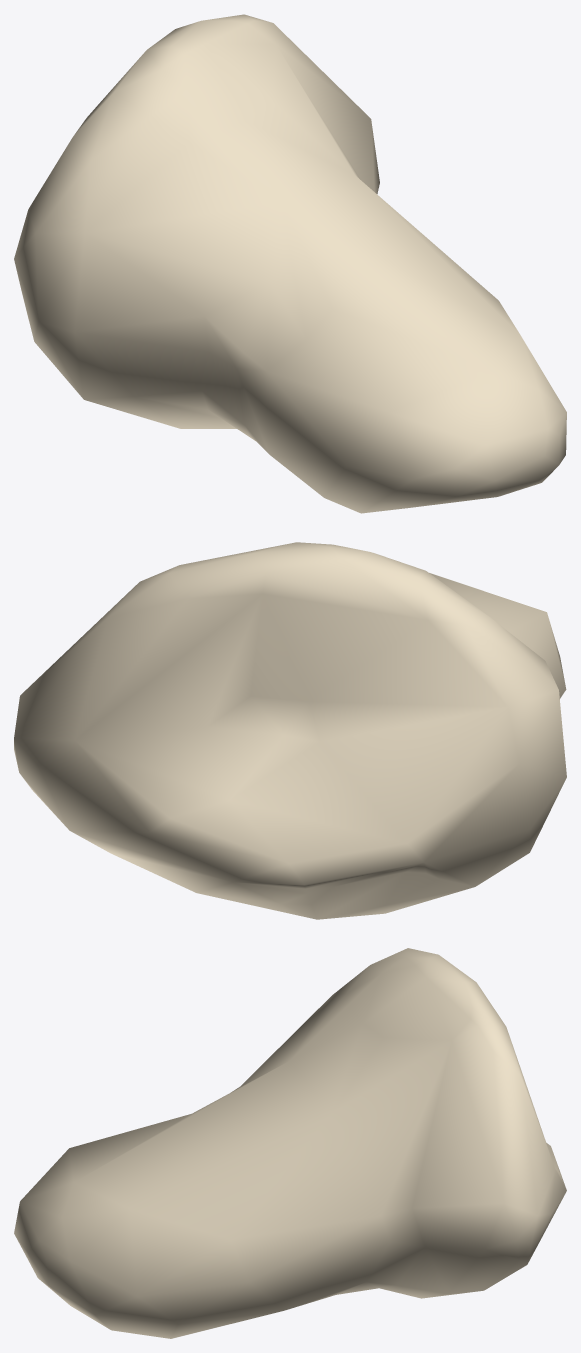
Rendered from distal-phalanx-of-fourth-finger-of-foot-l.glb.
The picture shows the model from 3 angles, top to bottom: view 1: azimuth 30°, elevation 25°; view 2: azimuth 150°, elevation 25°; view 3: azimuth 270°, elevation 25°; orthographic projection. The views are drawn at different scales.
Visible parts, largest first — view 1: Distal phalanx of fourth finger of foot.l; view 2: Distal phalanx of fourth finger of foot.l; view 3: Distal phalanx of fourth finger of foot.l.
Boxes of the visible parts, x1,y1,x2,y2 form: Distal phalanx of fourth finger of foot.l: (14,14,566,513); Distal phalanx of fourth finger of foot.l: (14,542,566,919); Distal phalanx of fourth finger of foot.l: (14,948,566,1338).
Bounding box in the file's own units: 0.00879 × 0.00733 × 0.0117.
